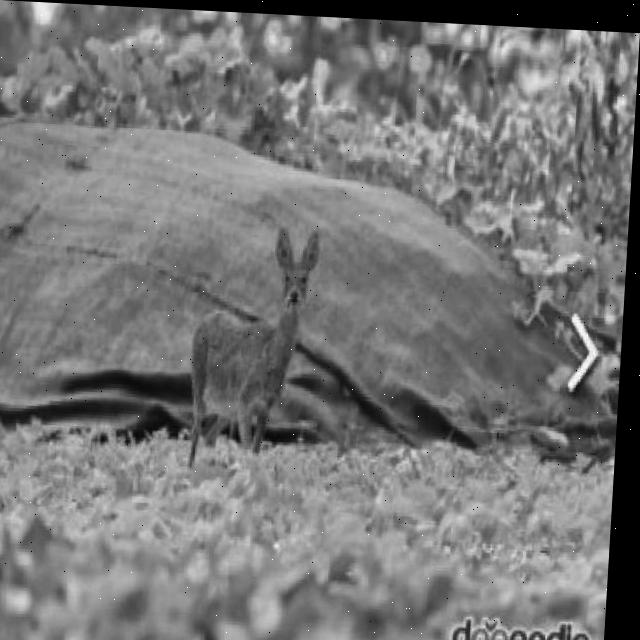Deer: (181, 218, 323, 478)
